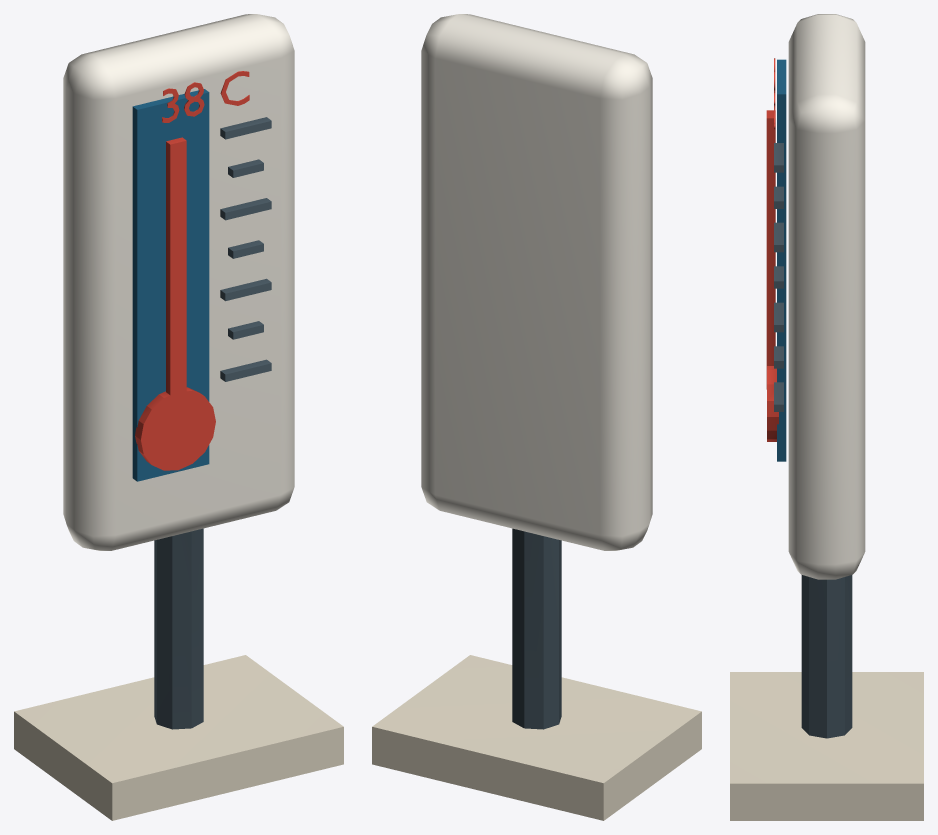
File: thermometer.glb
3 renders of one model, left to right at view 1: azimuth 30°, elevation 25°; view 2: azimuth 150°, elevation 25°; view 3: azimuth 270°, elevation 25°, orthographic.
Visible parts, largest first — view 1: weather monitor housing, temperature monitor base, thermometer recess, thermometer pedestal, red thermometer bulb; view 2: weather monitor housing, temperature monitor base, thermometer pedestal; view 3: weather monitor housing, temperature monitor base, thermometer pedestal, red thermometer bulb, thermometer recess.
Part boxes in pixels (left/top/right/bottom): weather monitor housing: left=63, top=14, right=294, bottom=550; temperature monitor base: left=14, top=655, right=343, bottom=820; thermometer recess: left=132, top=89, right=209, bottom=481; thermometer pedestal: left=154, top=117, right=271, bottom=729; red thermometer bulb: left=135, top=71, right=249, bottom=470; weather monitor housing: left=421, top=14, right=652, bottom=550; temperature monitor base: left=372, top=655, right=701, bottom=820; thermometer pedestal: left=512, top=528, right=561, bottom=729; weather monitor housing: left=788, top=14, right=865, bottom=579; temperature monitor base: left=730, top=672, right=923, bottom=820; thermometer pedestal: left=774, top=143, right=852, bottom=738; red thermometer bulb: left=766, top=58, right=778, bottom=441; thermometer recess: left=777, top=59, right=786, bottom=461.
Bounding box in the file's own units: 0.45 × 1.34 × 0.33.
